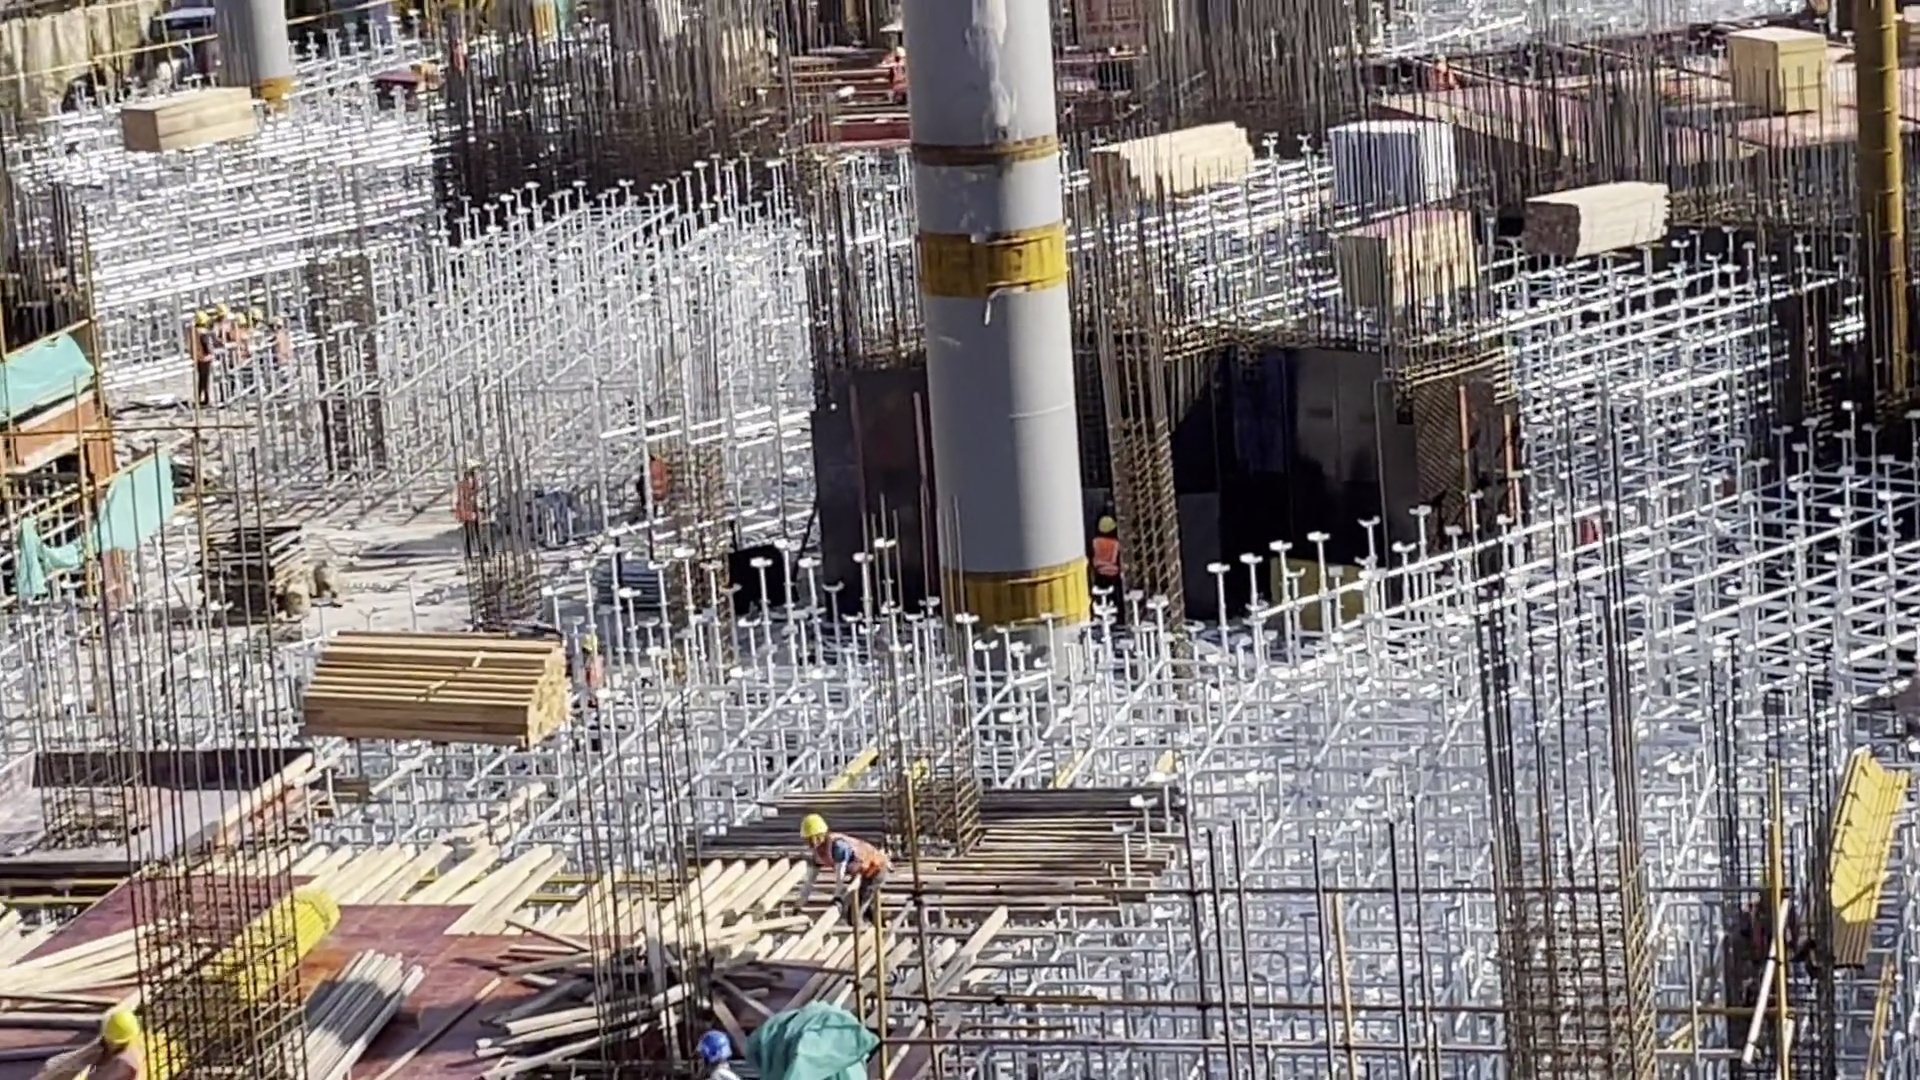board: (1320, 207, 1468, 310), (1721, 15, 1833, 121)
helmet: (692, 1029, 738, 1059), (799, 814, 828, 840), (1096, 516, 1118, 534)
person: (795, 810, 894, 885), (676, 1025, 751, 1080), (459, 457, 490, 559), (567, 630, 604, 714), (1089, 515, 1123, 588), (186, 314, 209, 392), (204, 307, 230, 347), (227, 307, 247, 340)
vest: (826, 837, 882, 881), (1092, 535, 1126, 576)
wood: (286, 626, 567, 754), (1087, 119, 1256, 215), (1523, 177, 1669, 265), (115, 85, 265, 160)
